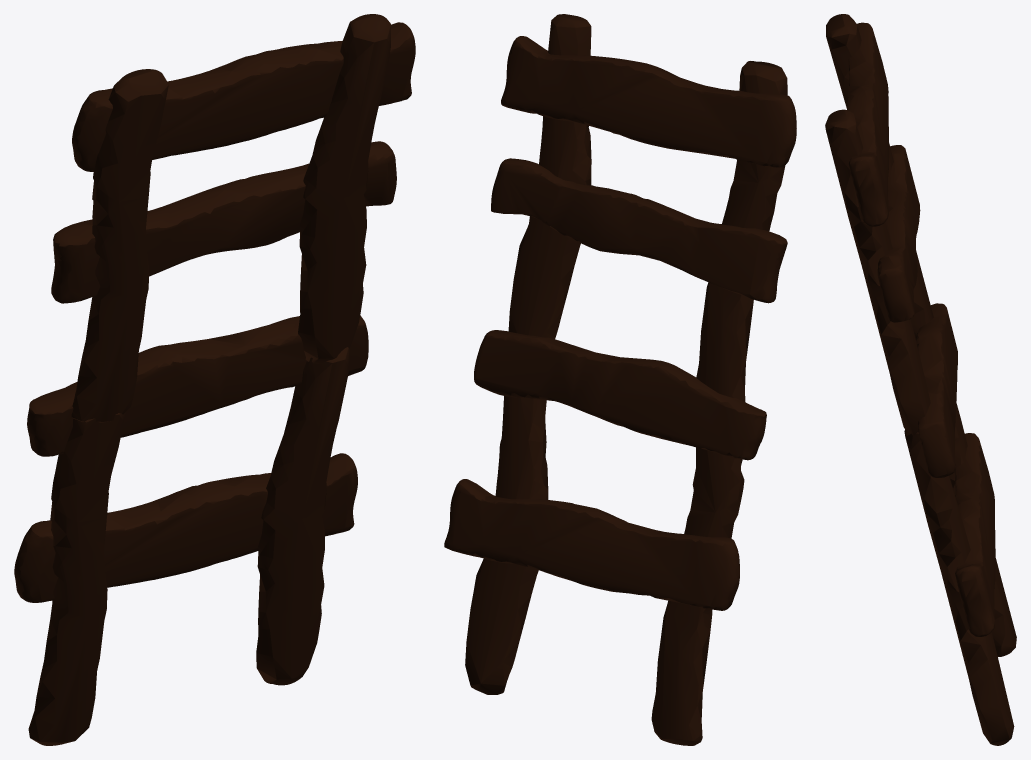
File: escada01emfbx.FBX
3 renders of one model, left to right at view 1: azimuth 30°, elevation 25°; view 2: azimuth 150°, elevation 25°; view 3: azimuth 270°, elevation 25°, orthographic. The views are drawn at different scales.
Parts seen in each view (by area): view 1: Mesh.003, Mesh, Mesh.001, Mesh.002; view 2: Mesh.001, Mesh.002, Mesh, Mesh.003; view 3: Mesh.001, Mesh.002, Mesh.003, Mesh.
Part boxes in pixels (x1,y1,x2,y2): Mesh.003: [71, 14, 391, 422]; Mesh: [28, 347, 349, 745]; Mesh.001: [14, 315, 368, 602]; Mesh.002: [51, 22, 415, 303]; Mesh.001: [444, 330, 766, 610]; Mesh.002: [491, 36, 796, 303]; Mesh: [465, 396, 744, 745]; Mesh.003: [508, 14, 787, 402]; Mesh.001: [916, 303, 995, 636]; Mesh.002: [847, 22, 920, 322]; Mesh.003: [825, 14, 933, 435]; Mesh: [904, 403, 1016, 745].
Bounding box in the file's own units: 366 × 740 × 204.
